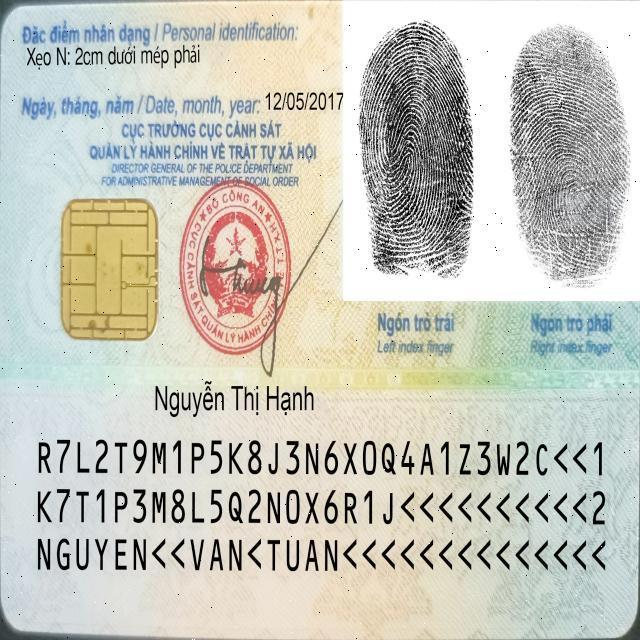features: (19, 35, 216, 77)
finger_print: (342, 0, 484, 358), (503, 2, 640, 358)
issue_date: (264, 88, 344, 116)
